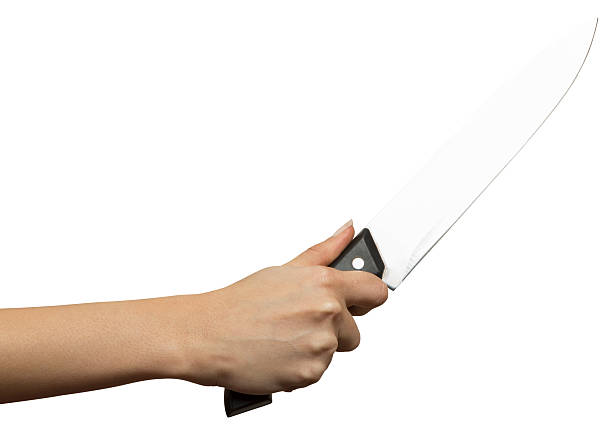knife: (222, 16, 601, 418)
